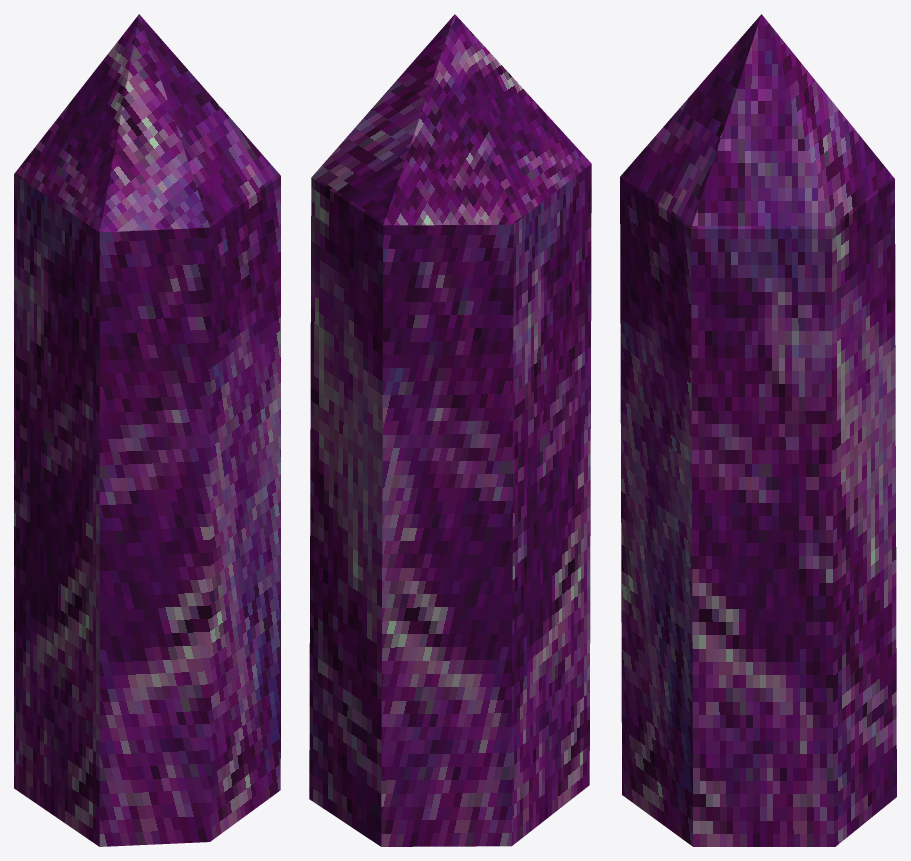
File: CRYSTAL3_ACTORDEF.fbx
The picture shows the model from 3 angles, left to right: view 1: azimuth 30°, elevation 25°; view 2: azimuth 150°, elevation 25°; view 3: azimuth 270°, elevation 25°; orthographic projection.
Visible parts, largest first — view 1: U3DMesh; view 2: U3DMesh; view 3: U3DMesh.
Part boxes in pixels (x1,y1,x2,y2): U3DMesh: [14, 14, 280, 846]; U3DMesh: [309, 14, 591, 846]; U3DMesh: [620, 14, 896, 846].
Bounding box in the file's own units: 1.01 × 3.76 × 1.21.
